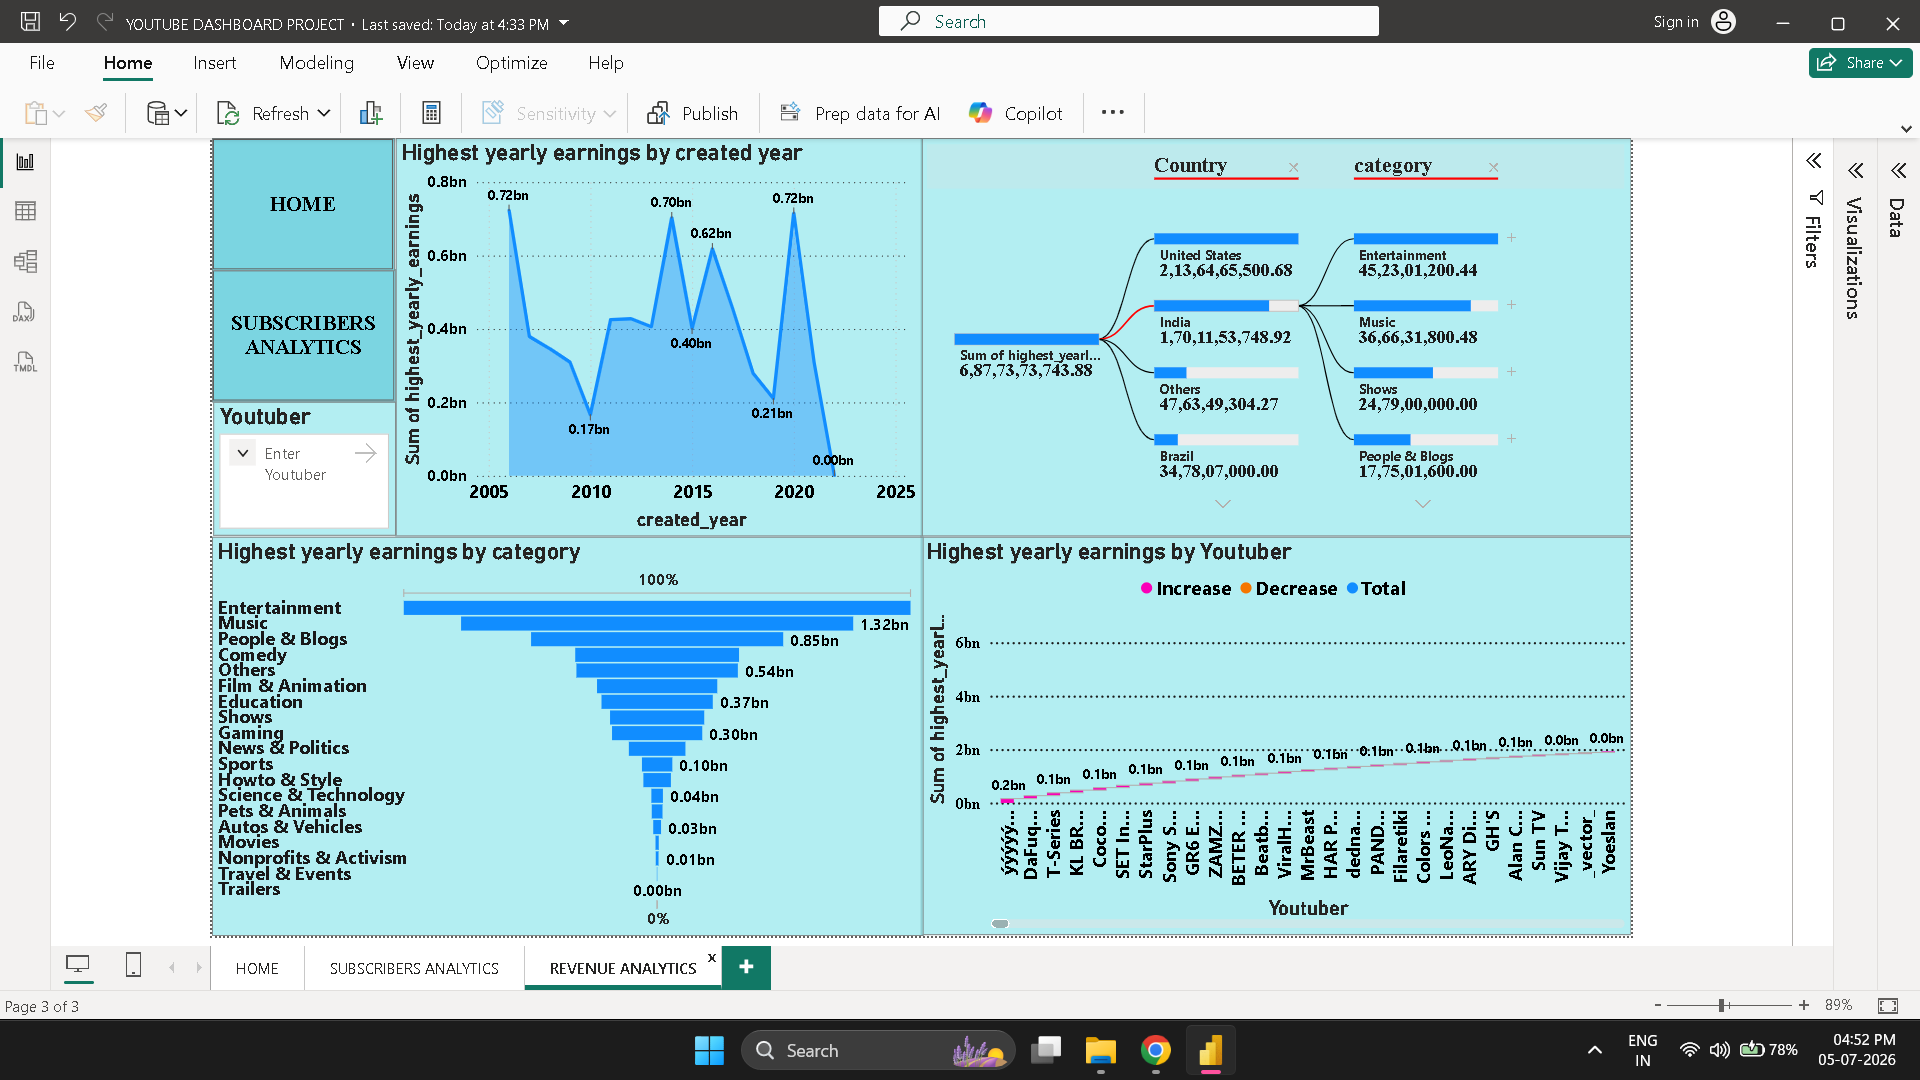

Layout of this report page (visuals, bound fields, positions):
{"tool":"powerbi","page":{"name":"REVENUE ANALYTICS","canvas":[1280,720],"ordinal":2},"visuals":[{"type":"waterfallChart","title":"Highest yearly earnings by Youtuber","fields":{"Y":["Sum(Cleaned_YouTube_Stats.highest_yearly_earnings)"],"Category":["Cleaned_YouTube_Stats.Youtuber"]},"box":[639.3,359.8,641,359],"z":0},{"type":"decompositionTreeVisual","fields":{"Analyze":["Sum(Cleaned_YouTube_Stats.highest_yearly_earnings)"],"ExplainBy":["Cleaned_YouTube_Stats.Country","Cleaned_YouTube_Stats.category","Cleaned_YouTube_Stats.Youtuber"]},"box":[639.5,0,640.8,359.2],"z":1000},{"type":"funnel","title":" Highest yearly earnings by category","fields":{"Category":["Cleaned_YouTube_Stats.category"],"Y":["Sum(Cleaned_YouTube_Stats.highest_yearly_earnings)"]},"box":[0,360,641.2,360],"z":2000},{"type":"areaChart","title":" Highest yearly earnings by created year","fields":{"Category":["Cleaned_YouTube_Stats.created_year"],"Y":["Sum(Cleaned_YouTube_Stats.highest_yearly_earnings)"]},"box":[165.8,0,475,359.2],"z":3000},{"type":"actionButton","box":[0,118.6,165.6,119.7],"z":4000},{"type":"actionButton","box":[0,0,164.5,119.7],"z":5000},{"type":"textSlicer","fields":{"Values":["Cleaned_YouTube_Stats.Youtuber"]},"box":[1.1,238.3,164.5,120.8],"z":6000}]}

Visuals, with their boxes on the page's 1280x720 design canvas (x1, y1, x2, y2). These are canvas units, not pixel positions in the 1920x1080 screenshot, which may show the page scaled, cropped or inside an application window:
"Highest yearly earnings by Youtuber" waterfallChart: [639, 360, 1280, 719]
decompositionTreeVisual - Sum(Cleaned_YouTube_Stats.highest_yearly_earnings) x Cleaned_YouTube_Stats.Country: [640, 0, 1280, 359]
" Highest yearly earnings by category" funnel: [0, 360, 641, 720]
" Highest yearly earnings by created year" areaChart: [166, 0, 641, 359]
actionButton: [0, 119, 166, 238]
actionButton: [0, 0, 164, 120]
textSlicer - Cleaned_YouTube_Stats.Youtuber: [1, 238, 166, 359]
